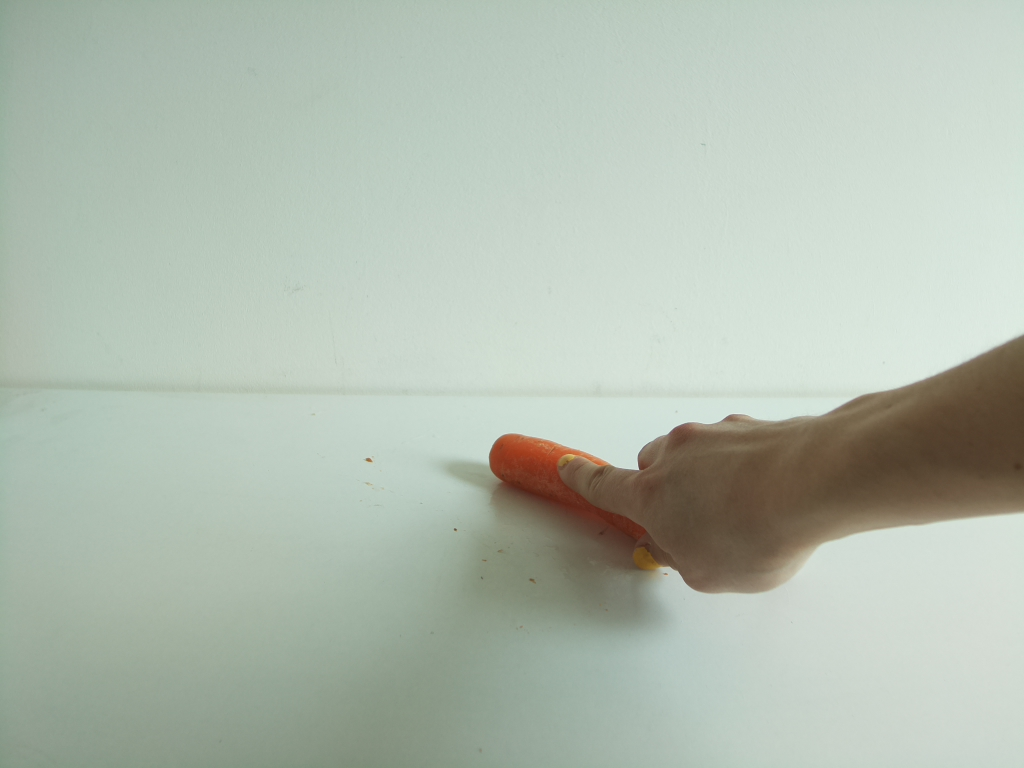carrot: (484, 428, 675, 573)
